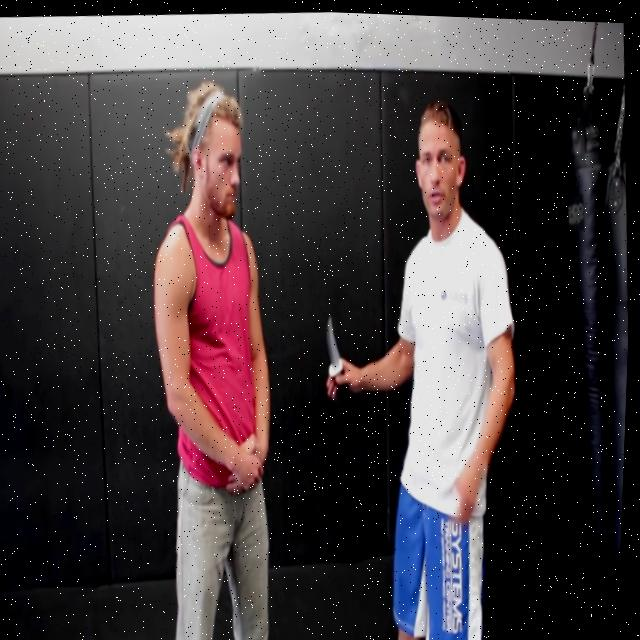knife: (323, 314, 346, 374)
